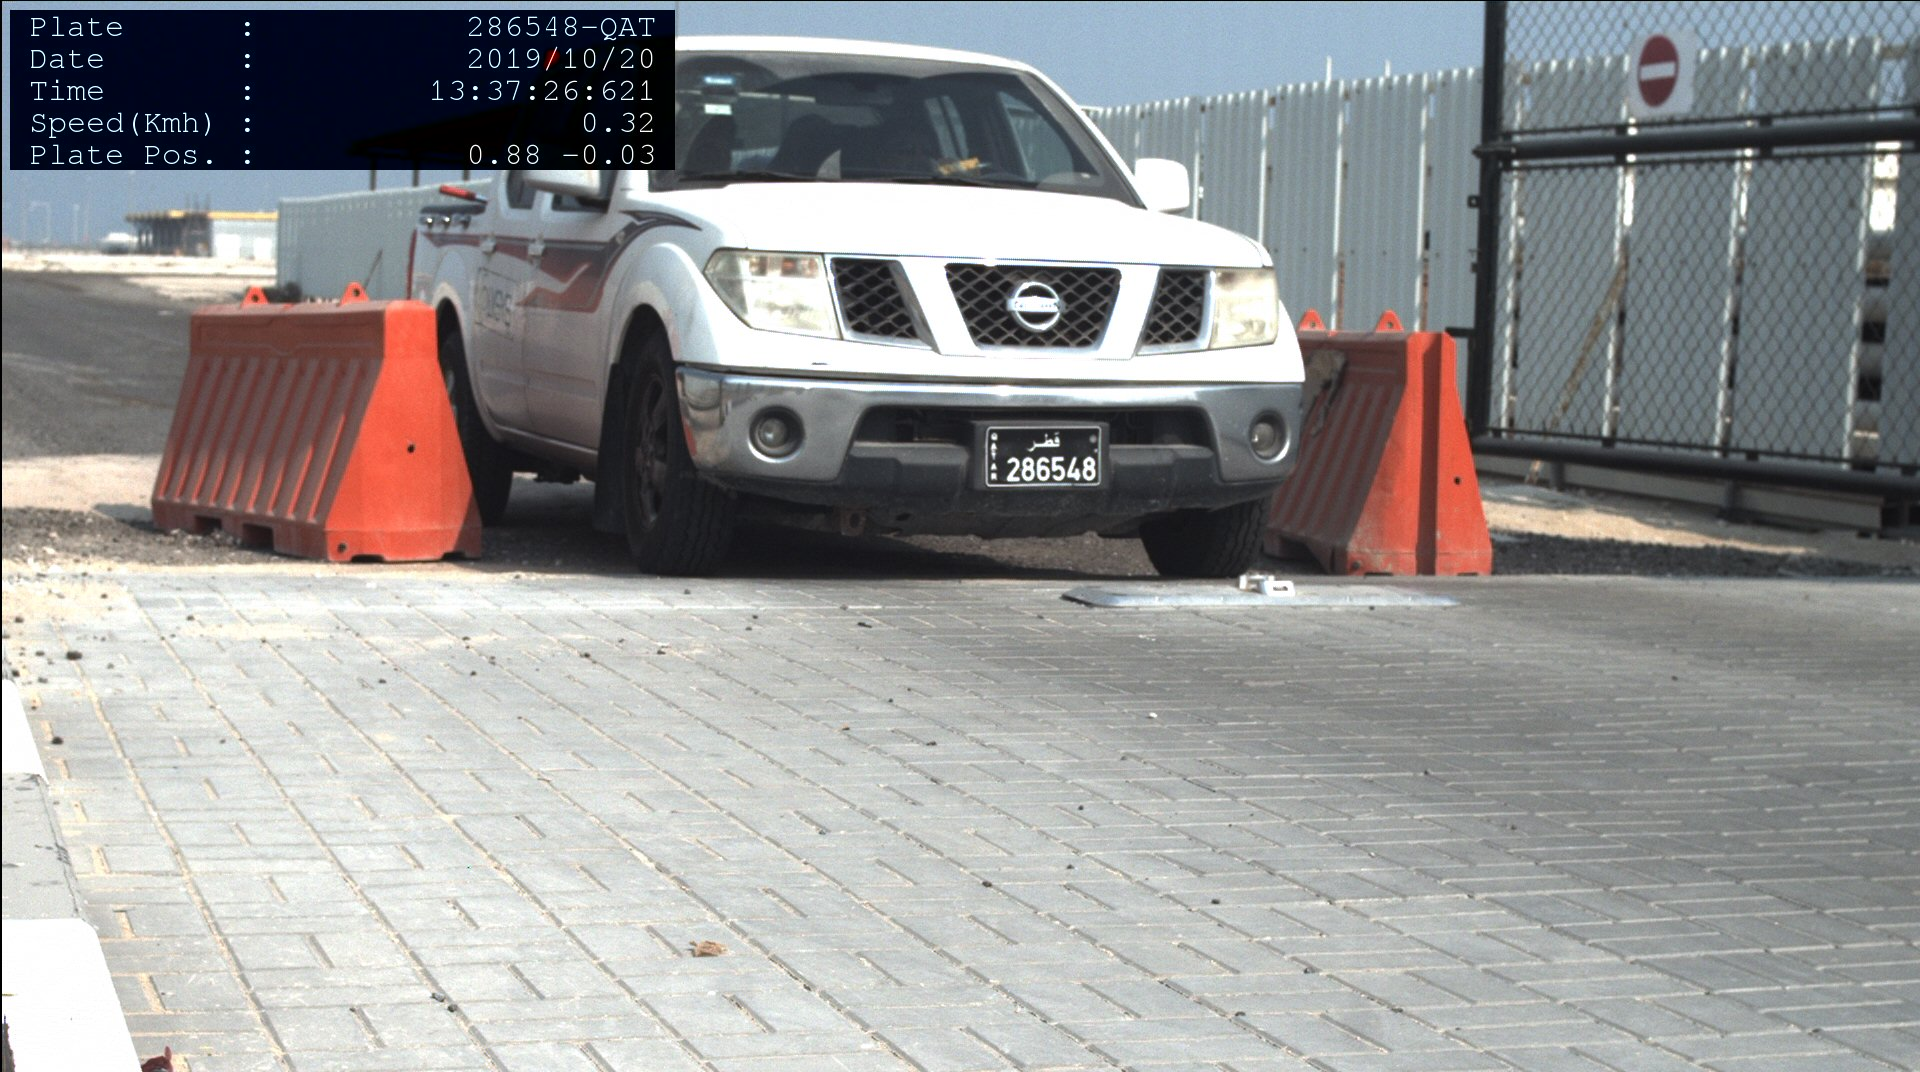License Plate: (987, 427, 1101, 483)
